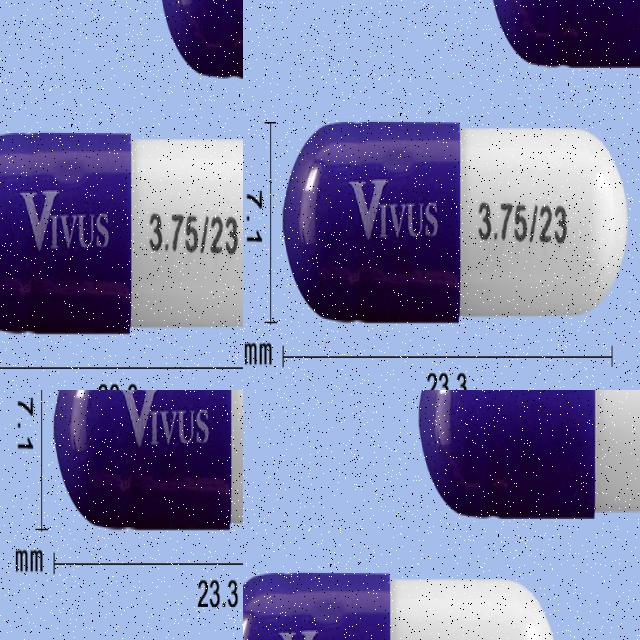Neobit Tab: (0, 0, 197, 330)
New Clato Tab: (53, 390, 243, 527)
Qsymia Cap-3-75mg: (418, 390, 640, 515), (243, 569, 558, 640)
Rulid Tab: (314, 152, 616, 390)
